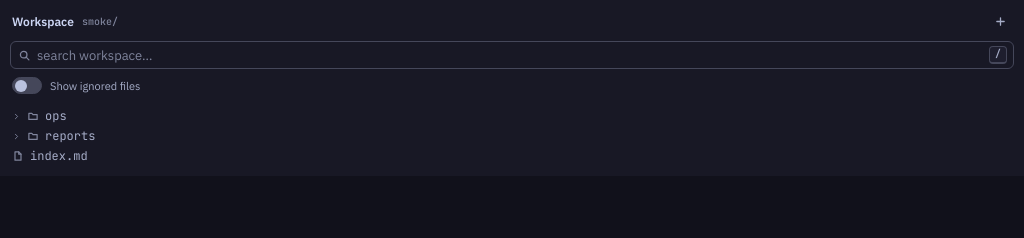
Test: a workspace reload keeps an expanded directory expanded
What coordinates should you click on to do the following:
click the button "ops"
I would click on:
 (16, 116)
Its box is [6,106,1018,126].
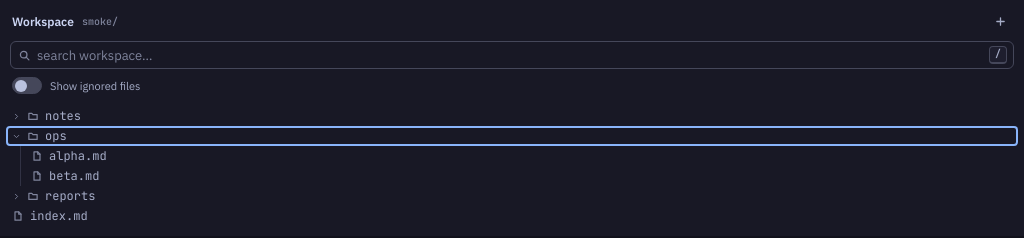
Now the button "notes" is shown, box [6,106,1018,126]
Now the button with test id "file-node-ops/alpha.md" is shown, box [25,146,1018,166]
